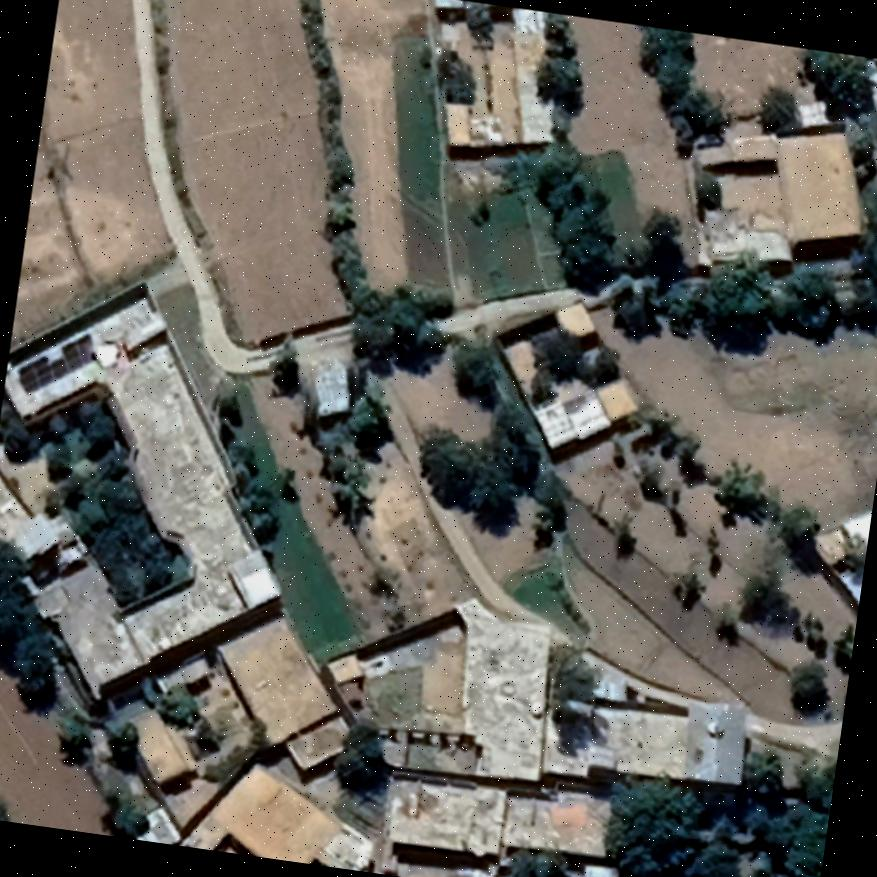Solarpanel: (9, 328, 94, 396)
